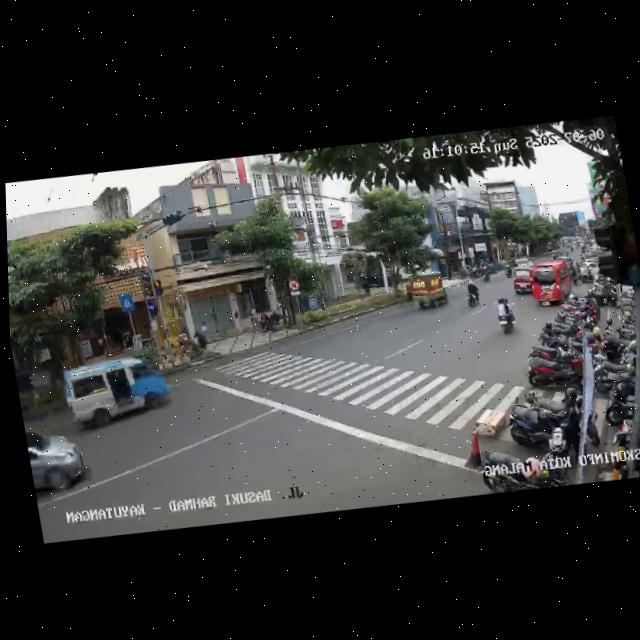bus: (508, 264, 540, 296)
car: (62, 353, 171, 439), (25, 420, 92, 505), (527, 256, 576, 309), (409, 269, 450, 313)
motorcycle: (491, 294, 520, 340), (463, 277, 482, 307)
